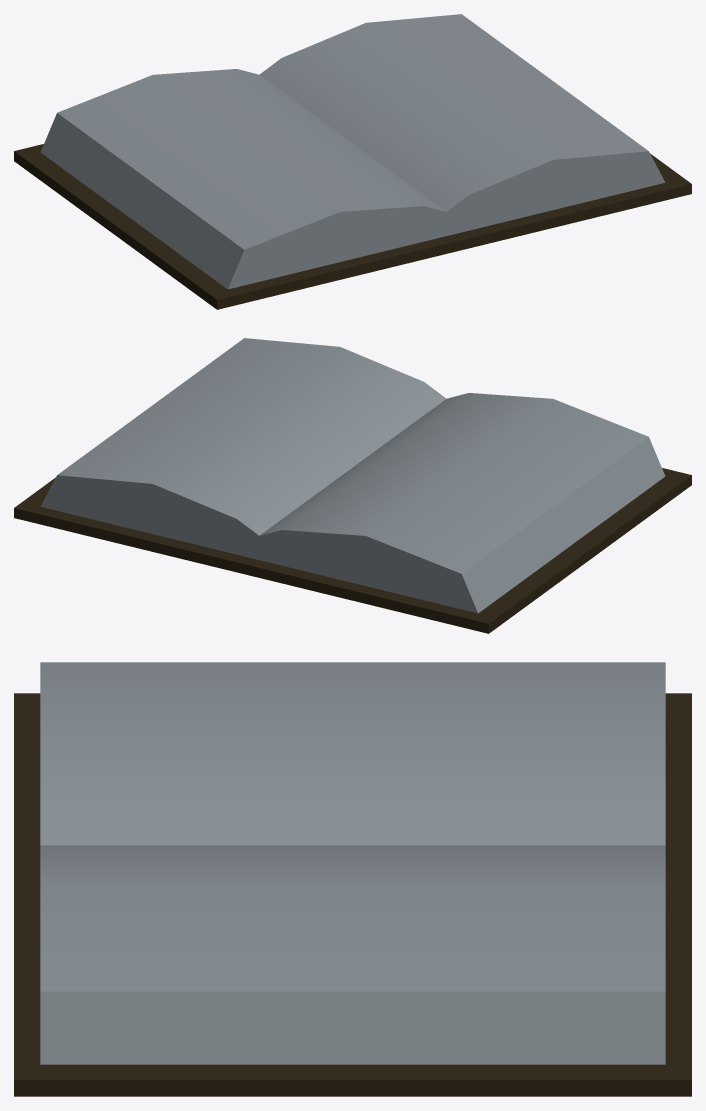
3 renders of one model, top to bottom at view 1: azimuth 30°, elevation 25°; view 2: azimuth 150°, elevation 25°; view 3: azimuth 270°, elevation 25°, orthographic. The views are drawn at different scales.
Parts seen in each view (by area): view 1: Box044; view 2: Box044; view 3: Box044.
Part boxes in pixels (left/top/right/bottom): Box044: left=14, top=14, right=691, bottom=309; Box044: left=14, top=338, right=691, bottom=633; Box044: left=14, top=662, right=691, bottom=1096.
Bounding box in the file's own units: 0.5197 × 0.063 × 0.3852.
